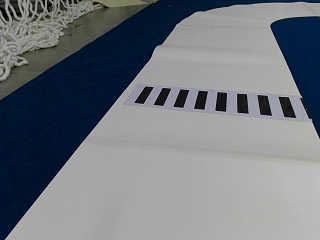crosswalk: (135, 86, 297, 118)
